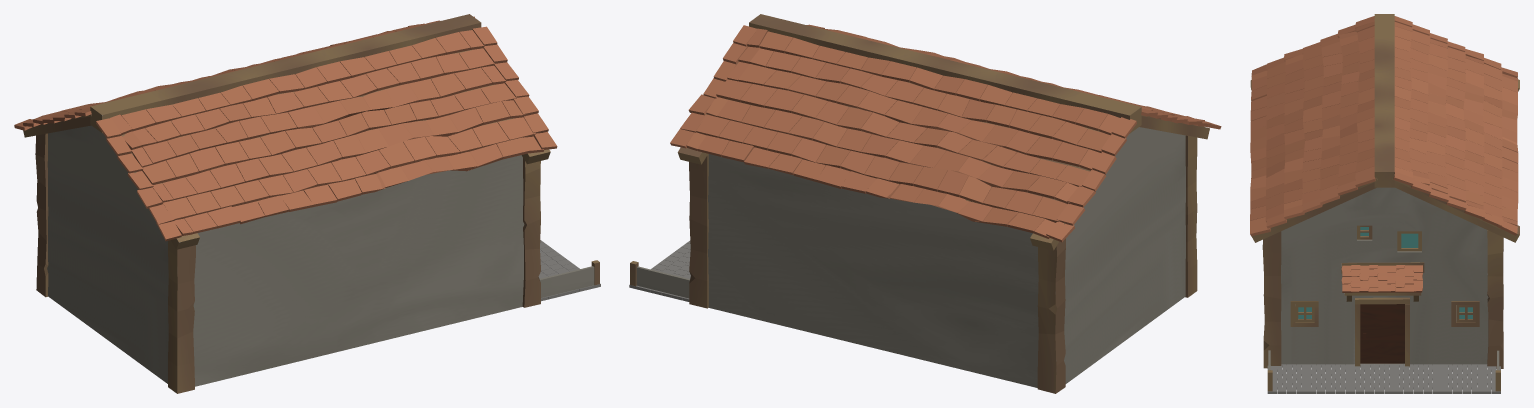
Rendered from HousePoverty.fbx.
3 renders of one model, left to right at view 1: azimuth 30°, elevation 25°; view 2: azimuth 150°, elevation 25°; view 3: azimuth 270°, elevation 25°, orthographic. The views are drawn at different scales.
Visible parts, largest first — view 1: HousePoverty_LOD0; view 2: HousePoverty_LOD0; view 3: HousePoverty_LOD0.
Part boxes in pixels (x1=…): HousePoverty_LOD0: x1=14, y1=14, x2=600, y2=393; HousePoverty_LOD0: x1=629, y1=14, x2=1221, y2=393; HousePoverty_LOD0: x1=1250, y1=14, x2=1519, y2=393.
Size of what is drawn, in the model's own units: 2095 by 1052 by 1291.
